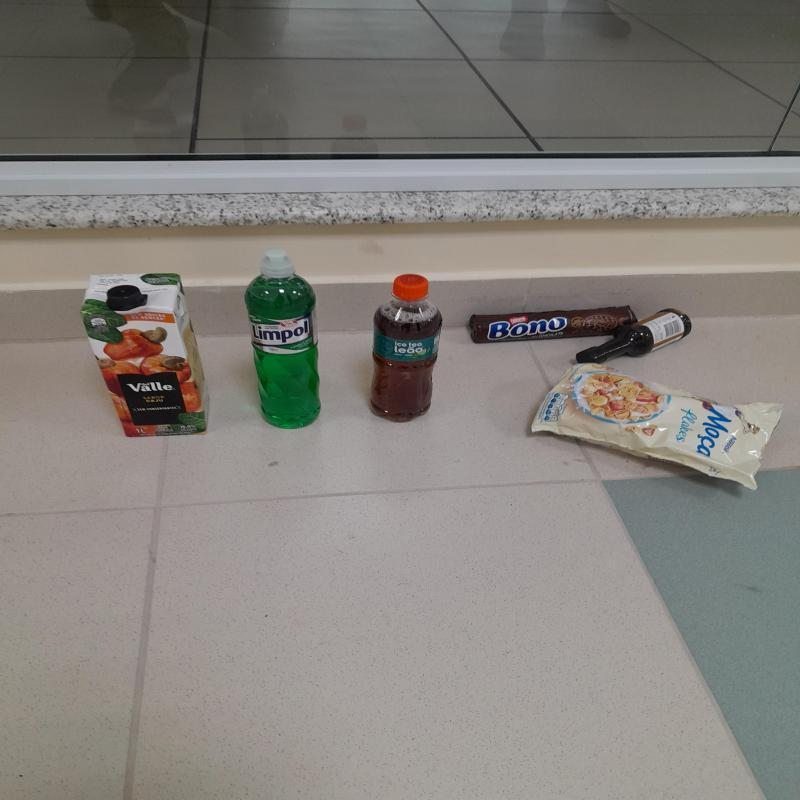Cleaner: (244, 253, 322, 432)
Cookies: (467, 308, 646, 346)
CornFlakes: (528, 365, 782, 492)
EnglishSauce: (580, 305, 695, 368)
IceTea: (369, 273, 443, 426)
